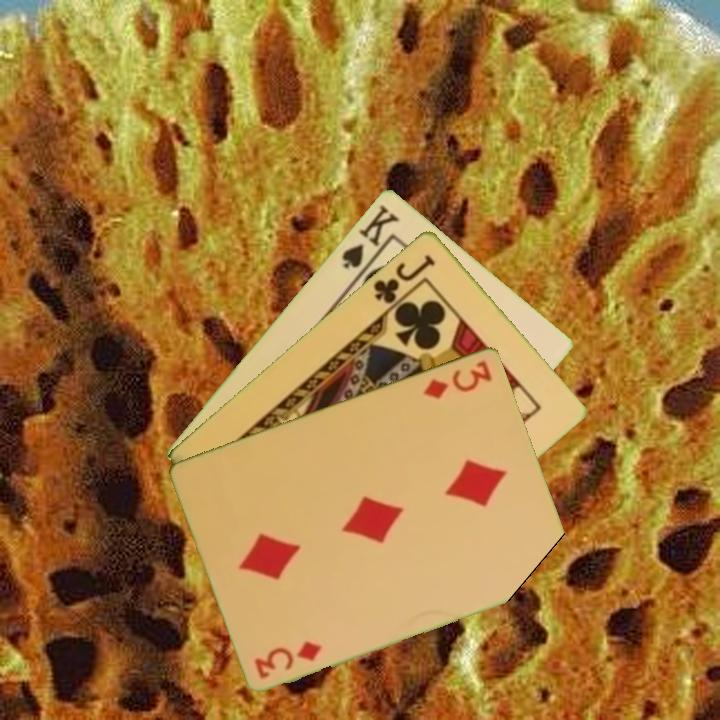3d: (420, 356, 495, 402), (251, 636, 326, 681)
Jc: (369, 250, 438, 306)
Ks: (338, 200, 402, 279)
